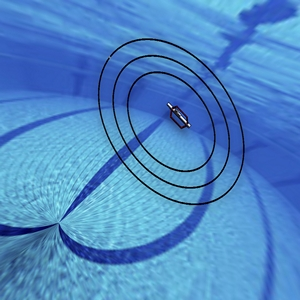circle: (89, 29, 257, 214)
submarine: (159, 96, 191, 137)
